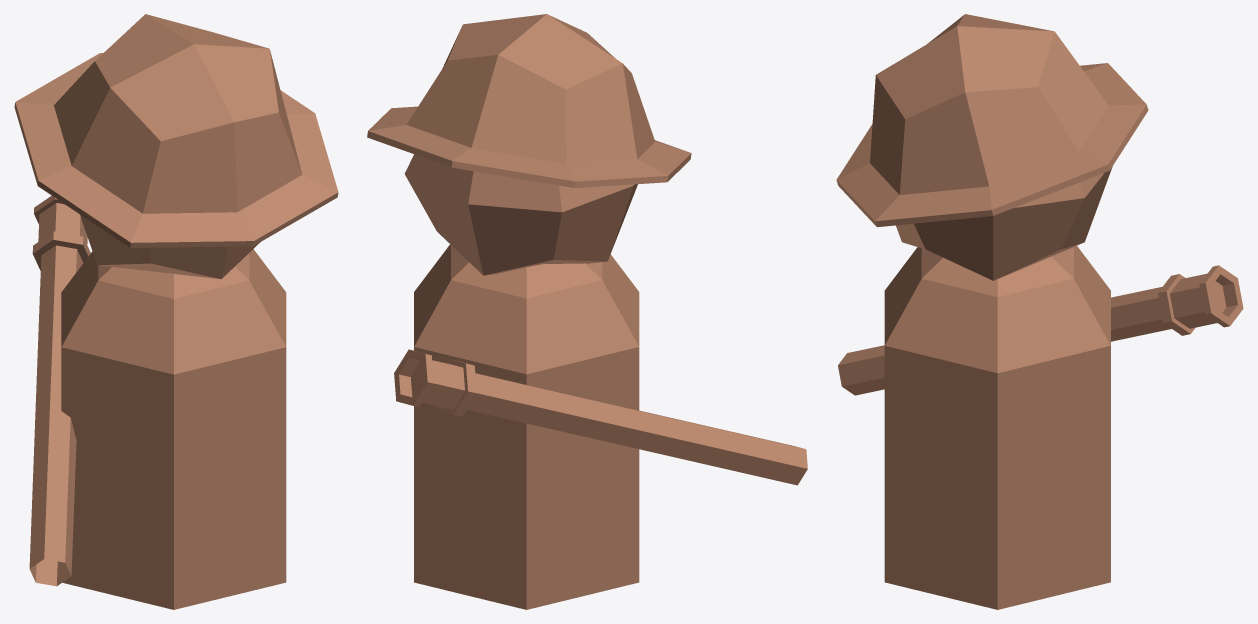
Rendered from SM_fire_fighter.fbx.
The picture shows the model from 3 angles, left to right: view 1: azimuth 30°, elevation 25°; view 2: azimuth 150°, elevation 25°; view 3: azimuth 270°, elevation 25°; orthographic projection.
Visible parts, largest first — view 1: pCylinder5; view 2: pCylinder5; view 3: pCylinder5.
Boxes of the visible parts, box(x1,y1,x2,y2) form: pCylinder5: box(14, 14, 338, 609); pCylinder5: box(367, 14, 807, 609); pCylinder5: box(836, 14, 1243, 609).
Bounding box in the file's own units: 28.47 × 40.75 × 28.44.
